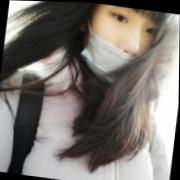WRONG: (87, 4, 169, 88)
